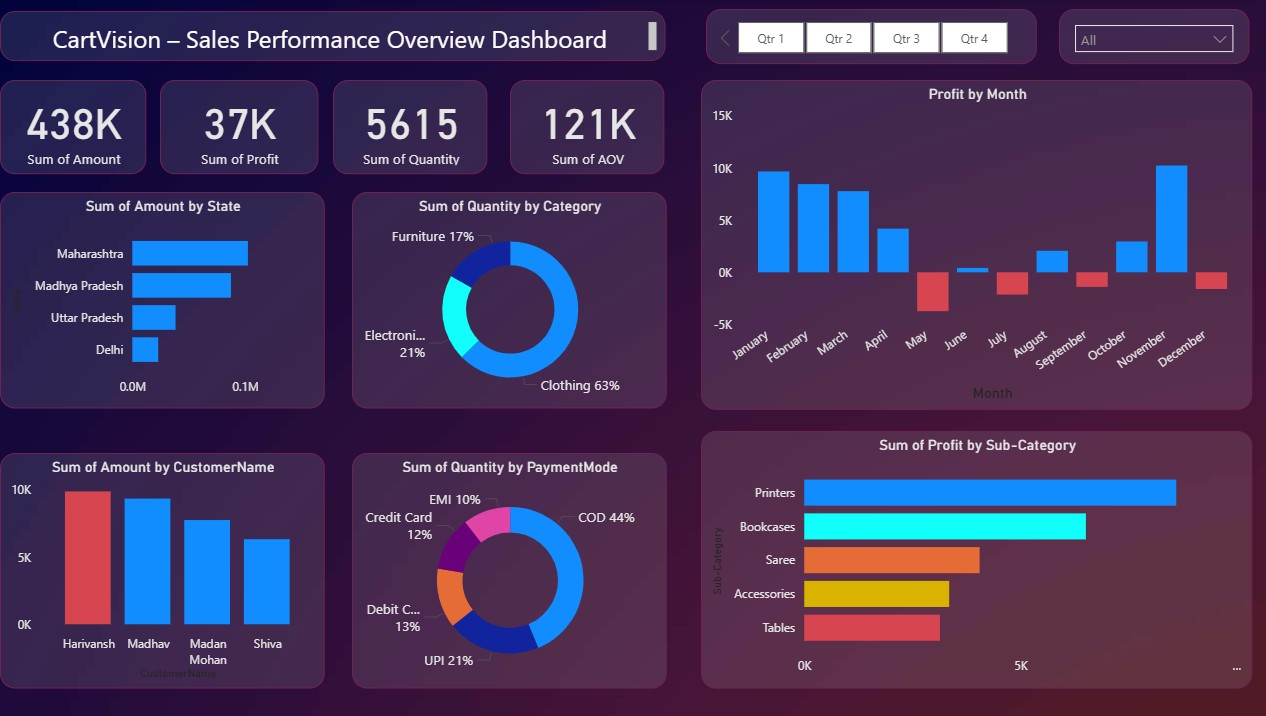

What the dashboard file says about the page in this screenshot:
{"tool":"powerbi","page":{"name":"Page 1","canvas":[1280,720],"ordinal":0},"visuals":[{"type":"columnChart","title":"Profit by Month","fields":{"Y":["Details.Profit"],"Category":["Orders.Order Date.Variation.Date Hierarchy.Month"]},"box":[709.6,80.5,550.2,328.8],"z":0},{"type":"barChart","fields":{"Category":["Details.Sub-Category"],"Y":["Details.Profit"]},"box":[709.6,431.1,550.2,256.7],"z":1000},{"type":"donutChart","fields":{"Category":["Details.Category"],"Y":["Details.Quantity"]},"box":[360.7,192.9,313.7,216.4],"z":2000},{"type":"donutChart","fields":{"Y":["Details.Quantity"],"Category":["Details.PaymentMode"]},"box":[360.7,452.9,313.7,234.9],"z":3000},{"type":"card","fields":{"Values":["Details.Amount"]},"box":[10.1,80.5,146,93.9],"z":4000},{"type":"card","fields":{"Values":["Details.Quantity"]},"box":[342.2,80.5,154.3,93.9],"z":5000},{"type":"card","fields":{"Values":["Details.Profit"]},"box":[169.4,80.5,157.7,93.9],"z":6000},{"type":"card","fields":{"Values":["Details.AOV"]},"box":[518.4,80.5,154.3,93.9],"z":7000},{"type":"barChart","fields":{"Category":["Orders.State"],"Y":["Details.Amount"]},"box":[10.1,192.9,323.8,216.4],"z":8000},{"type":"columnChart","fields":{"Category":["Orders.CustomerName"],"Y":["Details.Amount"]},"box":[10.1,452.9,323.8,234.9],"z":9000},{"type":"slicer","fields":{"Values":["Orders.Order Date.Variation.Date Hierarchy.Quarter"]},"box":[714.7,10.1,330.5,55.4],"z":10000},{"type":"slicer","fields":{"Values":["Orders.State"]},"box":[1066.9,10.1,189.6,55.4],"z":11000},{"type":"textbox","box":[9.9,26.9,662.5,53.9],"z":12000}]}

Visuals, with their boxes in screenshot pixels (x1, y1, x2, y2), scaled from the page's 1280x720 canvas onto the 1266x716 screenshot:
"Profit by Month" columnChart: <box>702,80,1246,407</box>
barChart - Details.Sub-Category x Details.Profit: <box>702,429,1246,684</box>
donutChart - Details.Category x Details.Quantity: <box>357,192,667,407</box>
donutChart - Details.Quantity x Details.PaymentMode: <box>357,450,667,684</box>
card - Details.Amount: <box>10,80,154,173</box>
card - Details.Quantity: <box>338,80,491,173</box>
card - Details.Profit: <box>168,80,324,173</box>
card - Details.AOV: <box>513,80,665,173</box>
barChart - Orders.State x Details.Amount: <box>10,192,330,407</box>
columnChart - Orders.CustomerName x Details.Amount: <box>10,450,330,684</box>
slicer - Orders.Order Date.Variation.Date Hierarchy.Quarter: <box>707,10,1034,65</box>
slicer - Orders.State: <box>1055,10,1243,65</box>
textbox: <box>10,27,665,80</box>
